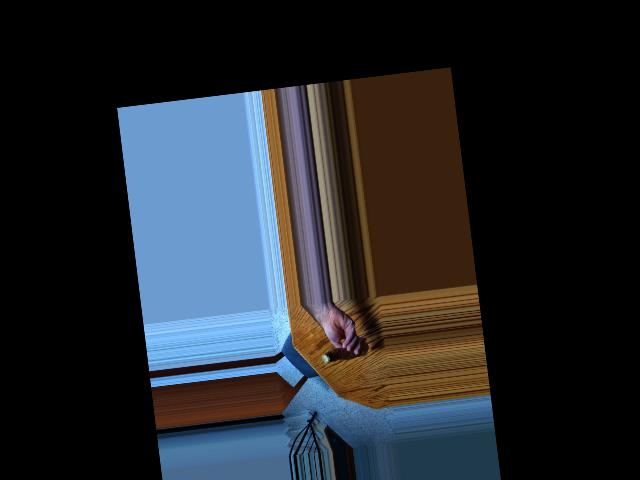sweet_potato: (319, 338, 369, 365)
